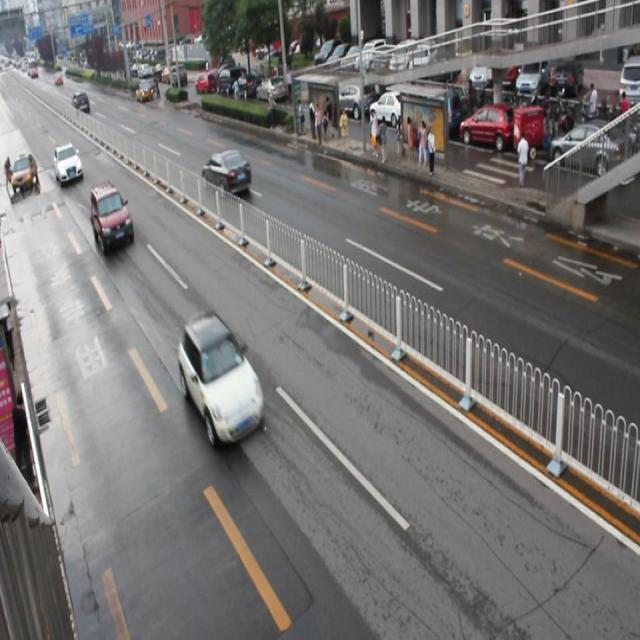car: (179, 314, 266, 446), (91, 182, 133, 254), (201, 148, 251, 197), (53, 141, 82, 186)
